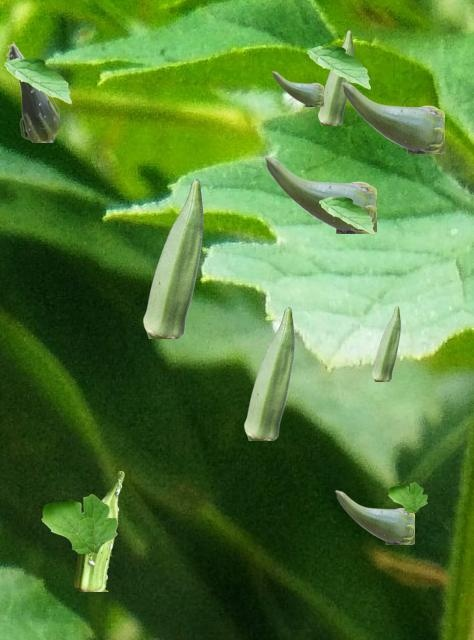okra: (143, 179, 202, 337), (264, 156, 375, 232), (341, 82, 443, 152), (244, 307, 293, 439), (74, 471, 123, 590), (6, 41, 58, 141), (335, 490, 413, 543), (318, 30, 352, 124), (372, 306, 399, 380), (272, 71, 322, 105)
